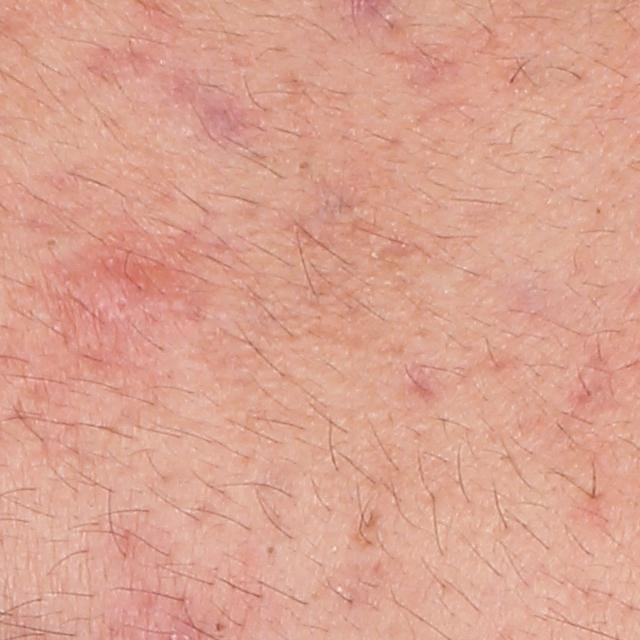atrophic_scar: (403, 366, 442, 407)
comedo: (40, 231, 65, 257), (294, 153, 313, 176), (261, 539, 280, 559), (212, 618, 226, 637)
